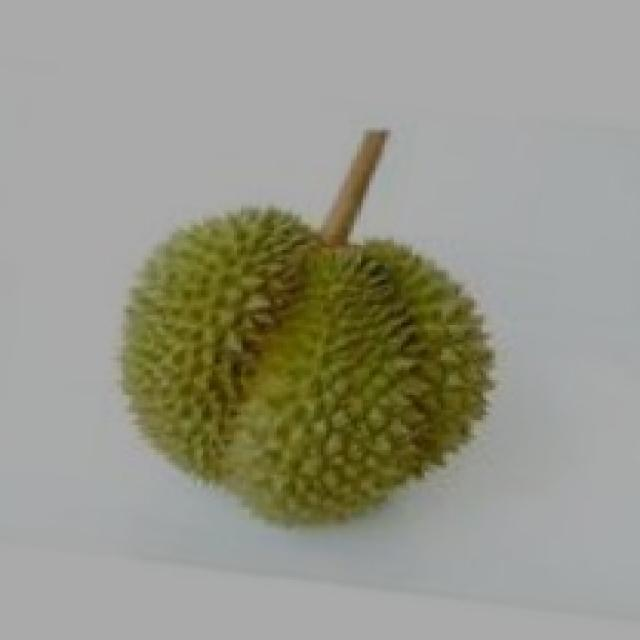fruit: (74, 180, 474, 580)
